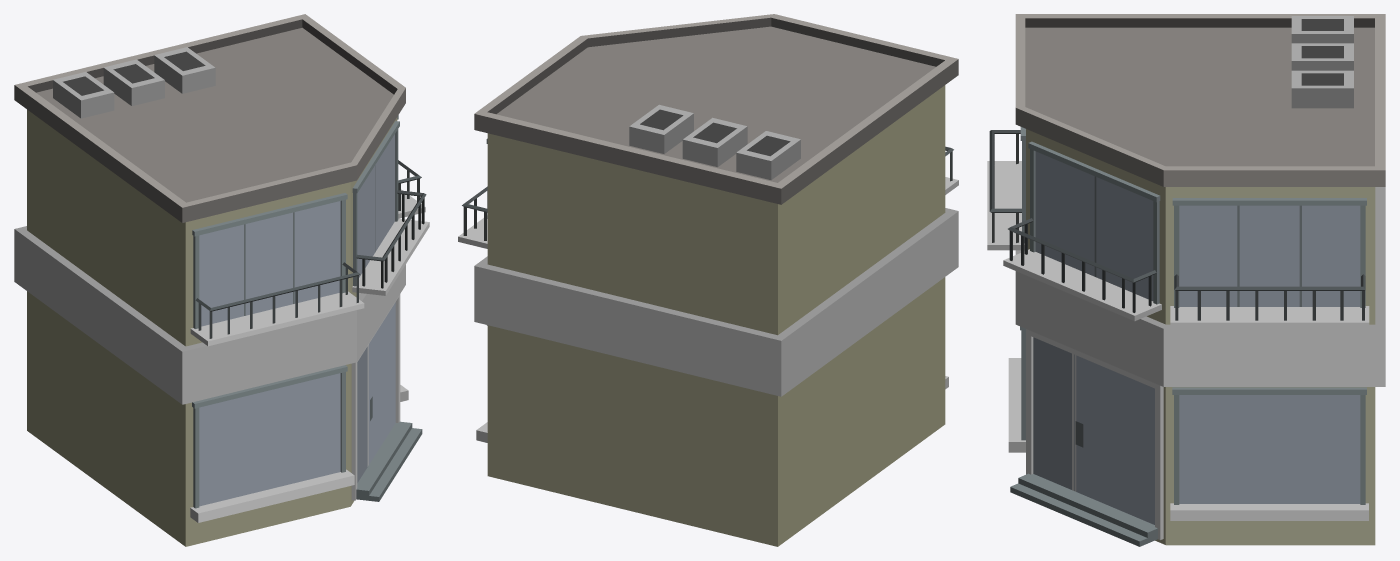
The model's file is building02.FBX.
The picture shows the model from 3 angles, left to right: view 1: azimuth 30°, elevation 25°; view 2: azimuth 150°, elevation 25°; view 3: azimuth 270°, elevation 25°; orthographic projection. The views are drawn at different scales.
Visible parts, largest first — view 1: building02; view 2: building02; view 3: building02.
Boxes of the visible parts, x1,y1,x2,y2 form: building02: [14, 14, 429, 546]; building02: [458, 14, 958, 546]; building02: [987, 14, 1385, 546].
Size of the model in its own units: 342 by 369 by 342.
